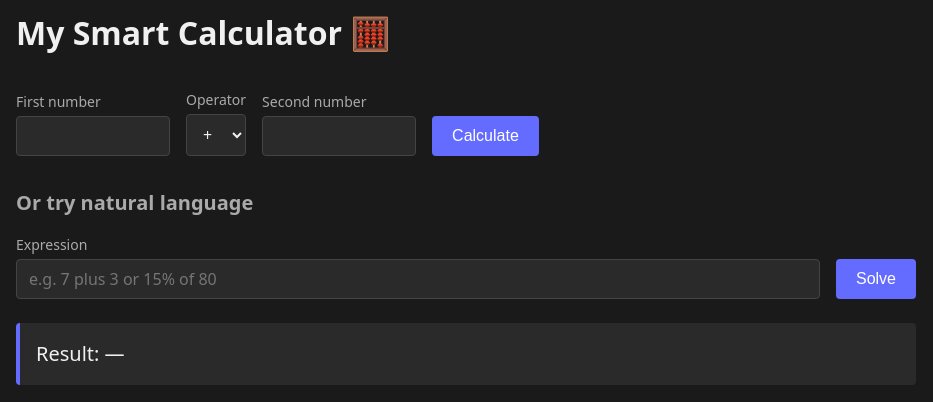
Scenario: App › [CALC-008] shows validation when both fields are empty with a non-default operator
The image size is (933, 402).
Select "*" in the dropdown labelled "Operator": (216, 135) [186, 114, 246, 156]
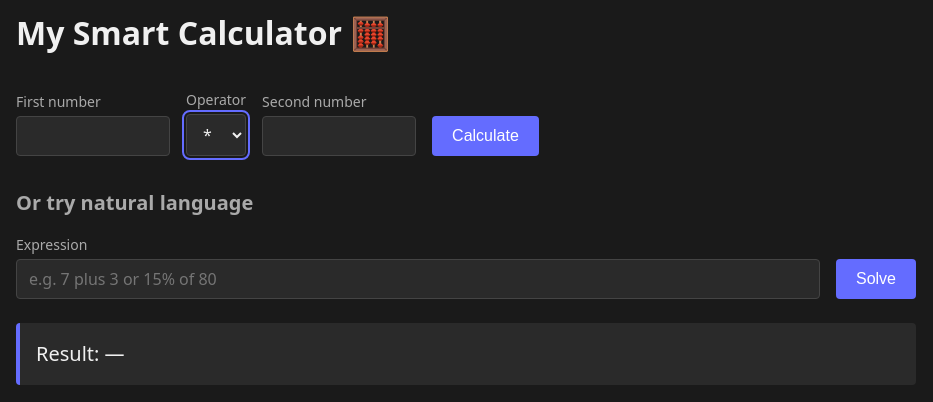
Click the button "Calculate": (485, 136) [432, 116, 539, 156]
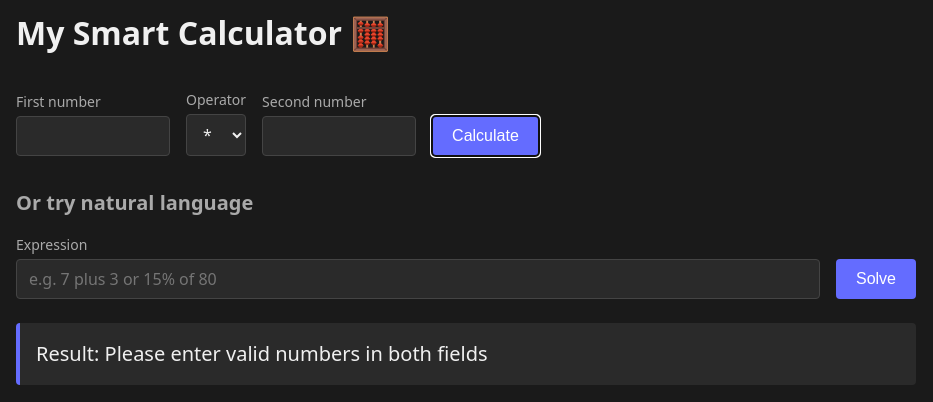
expect the text "Result: Please enter valid numbers in both fields" is shown: met, box [16, 323, 916, 385]
